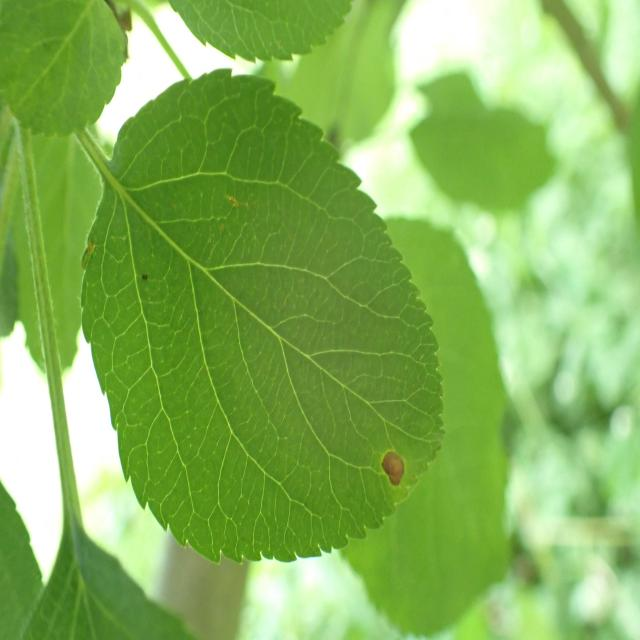Black Rot: (367, 424, 413, 511)
